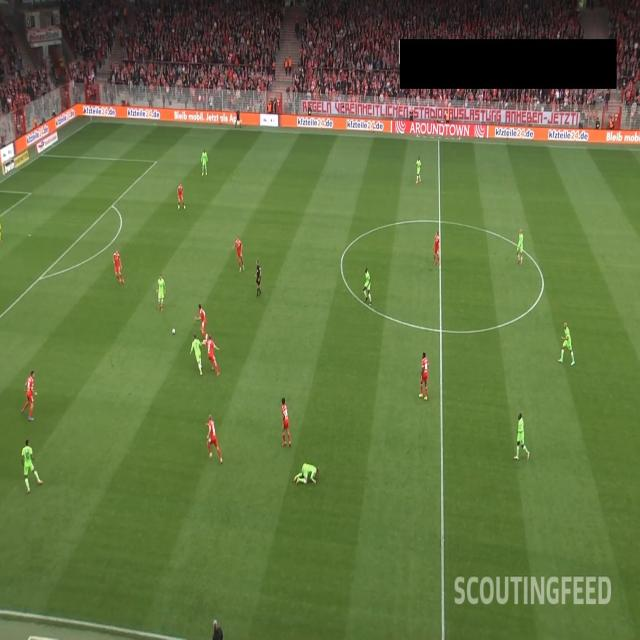ball: (172, 328, 176, 335)
